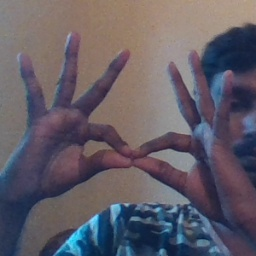B: (71, 100, 203, 201)
